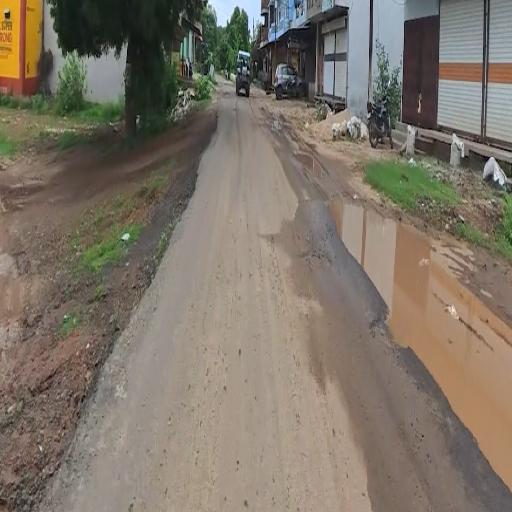edge_damage: (45, 337, 119, 488), (154, 138, 210, 248)
pothole: (303, 115, 512, 496)
